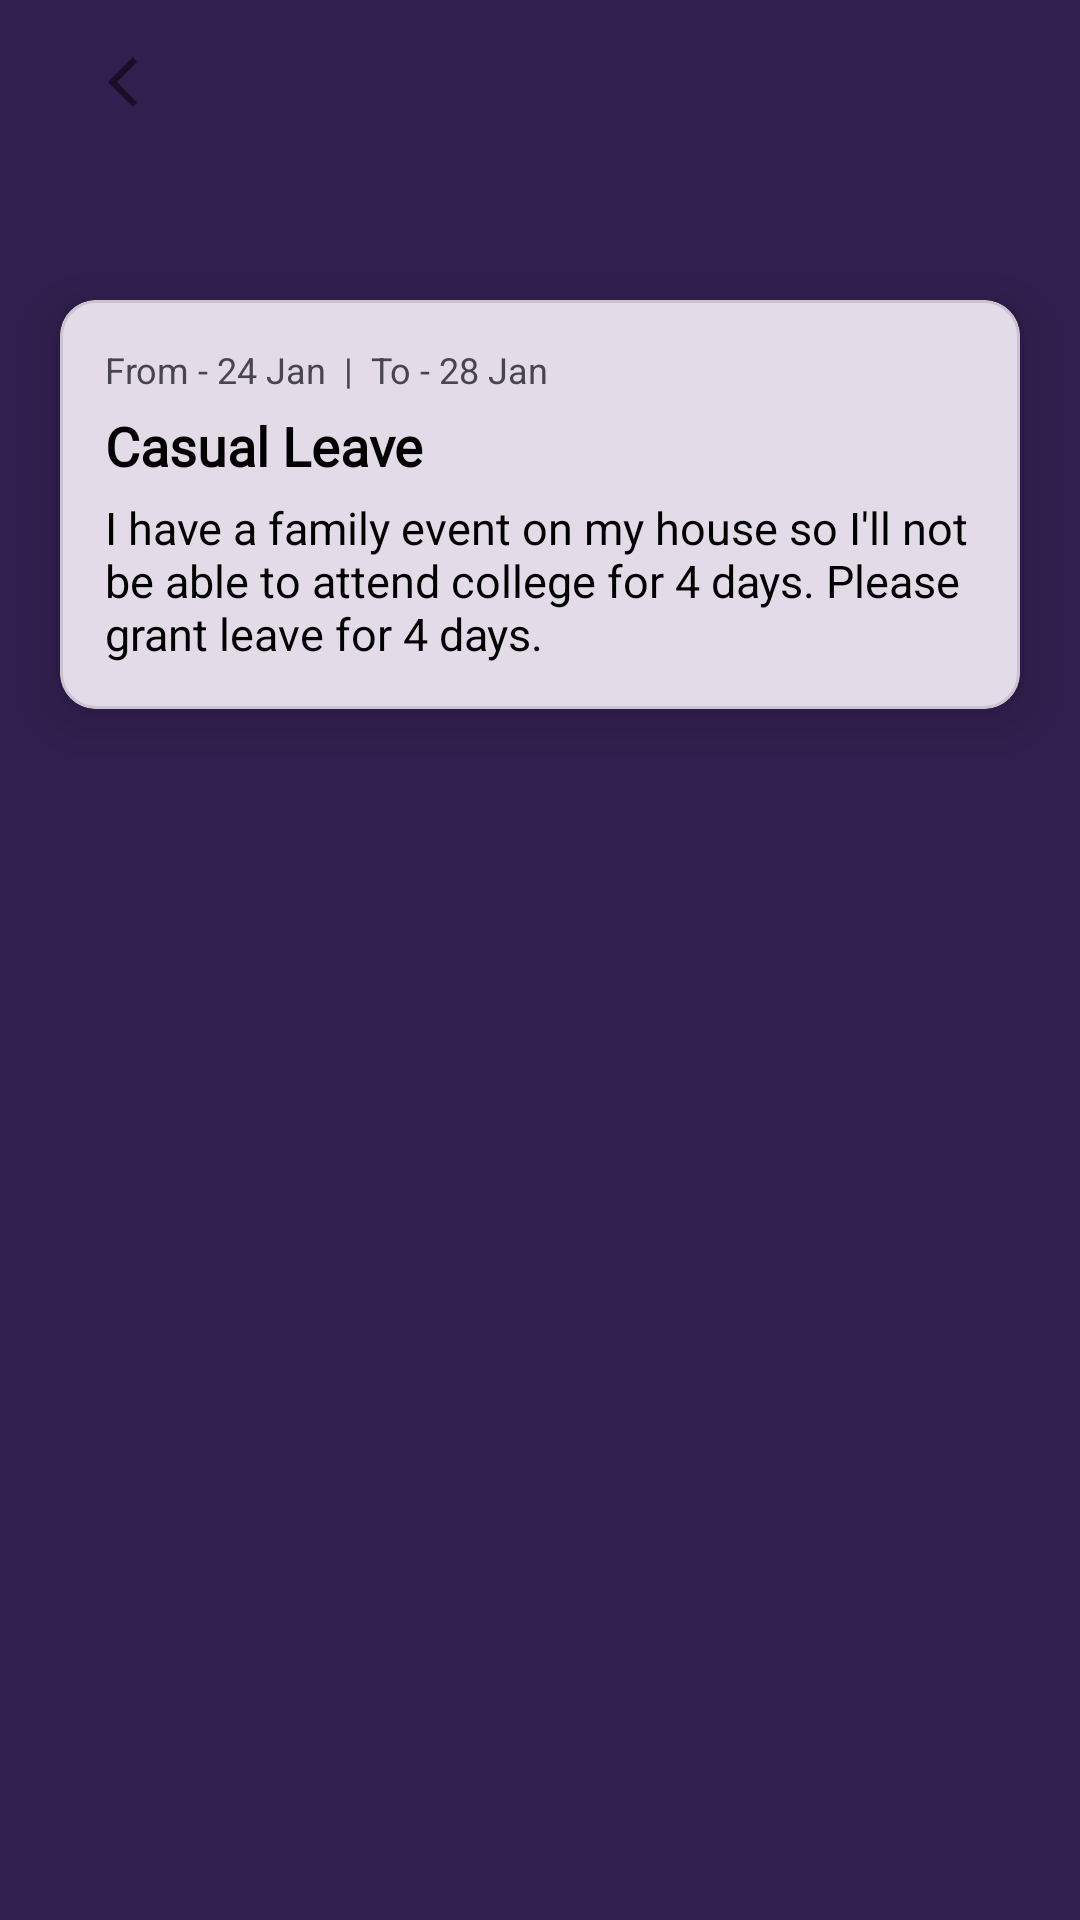

Locate icon controls on the screen. Image size 1080 × 1920, boxes as (x1, y1, x2, y2).
arrow back: (109, 58, 137, 106)
